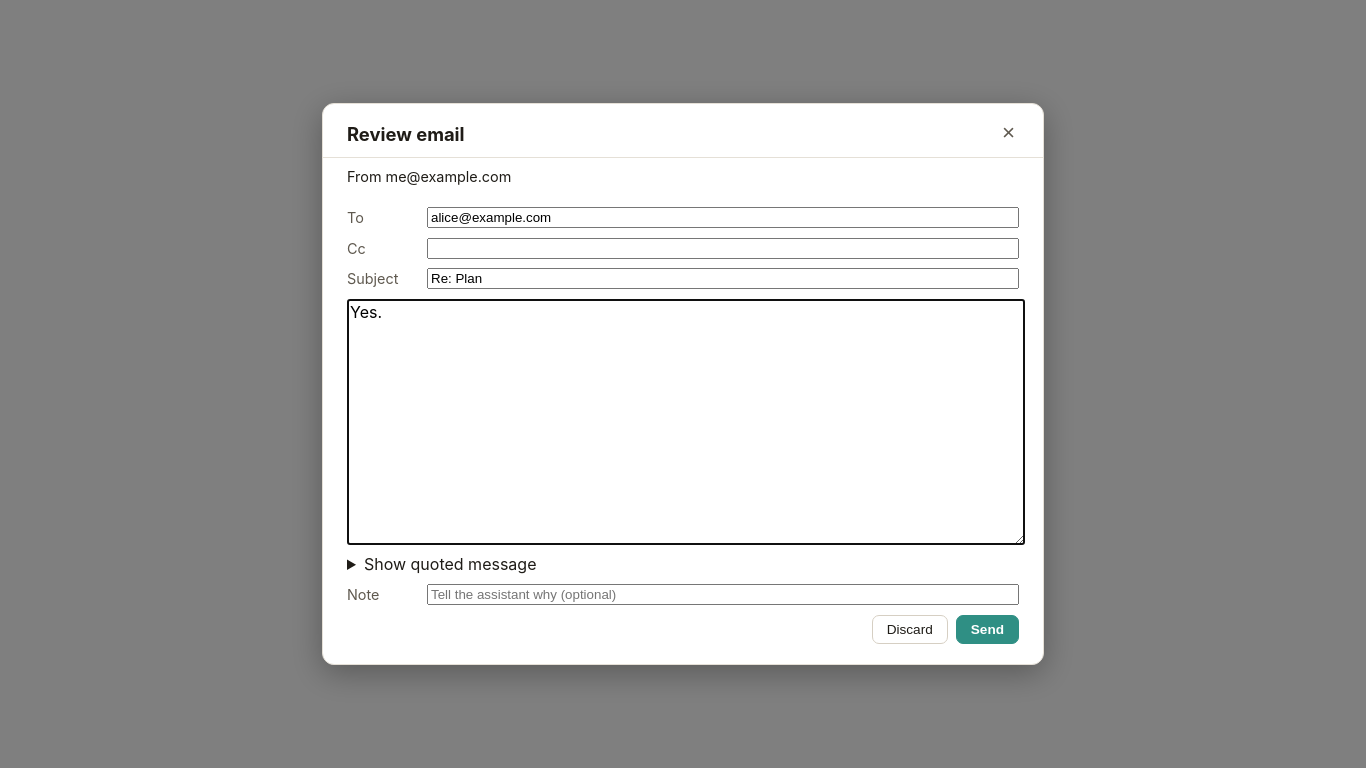
Test: EmailReviewModal › will not send to something that is not an address
The width and height of the screenshot is (1366, 768).
Expected: the heading "Review email" is shown, [347,123,465,145]
Replace the text in the field labelled "To" with "alice at example" at (723, 218), box [427,207,1019,228]
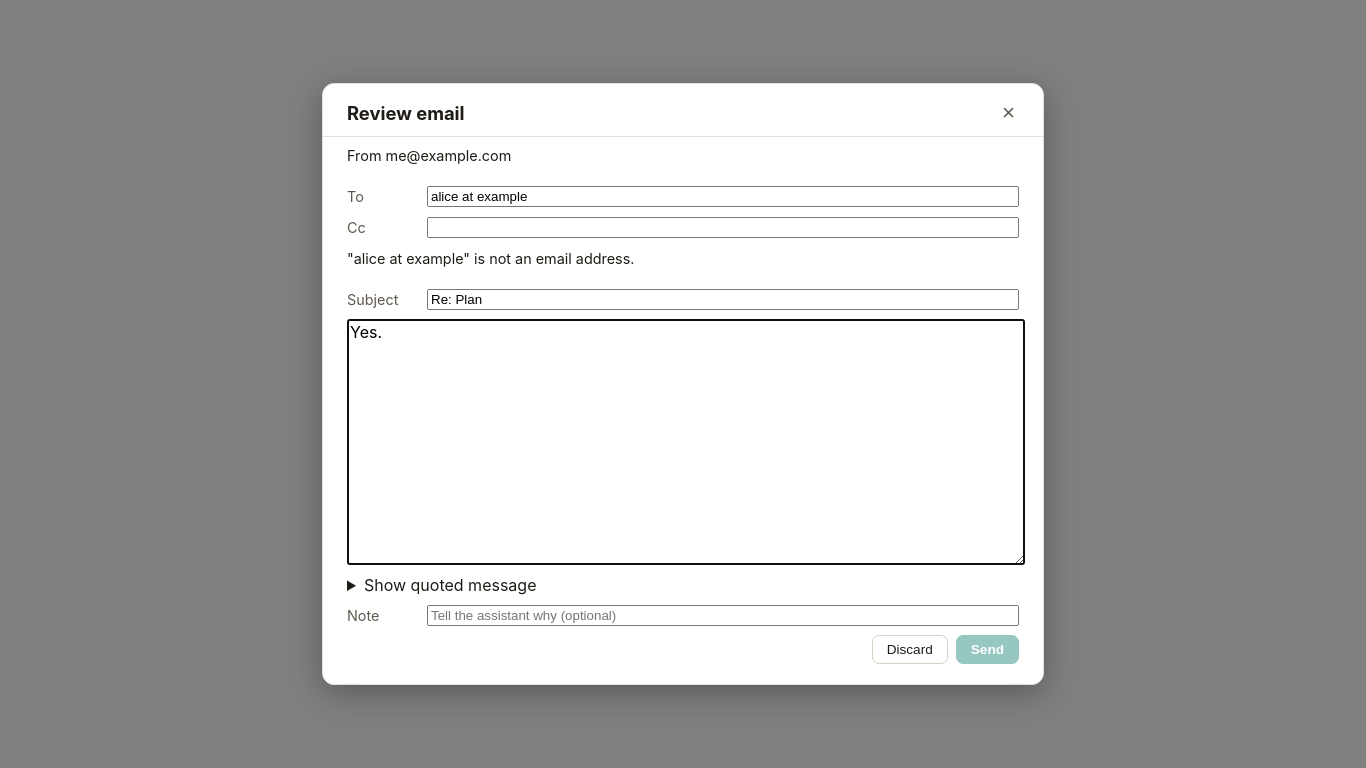
Expected: the button "Send" is disabled, [956,635,1019,664]
Expected: the text "\"alice at example\" is not an email address." is shown, [347,250,634,267]
